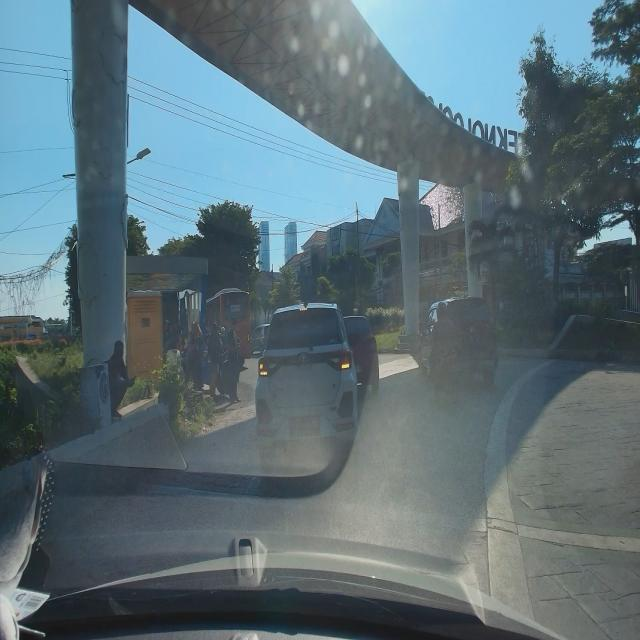car: (254, 296, 358, 478)
